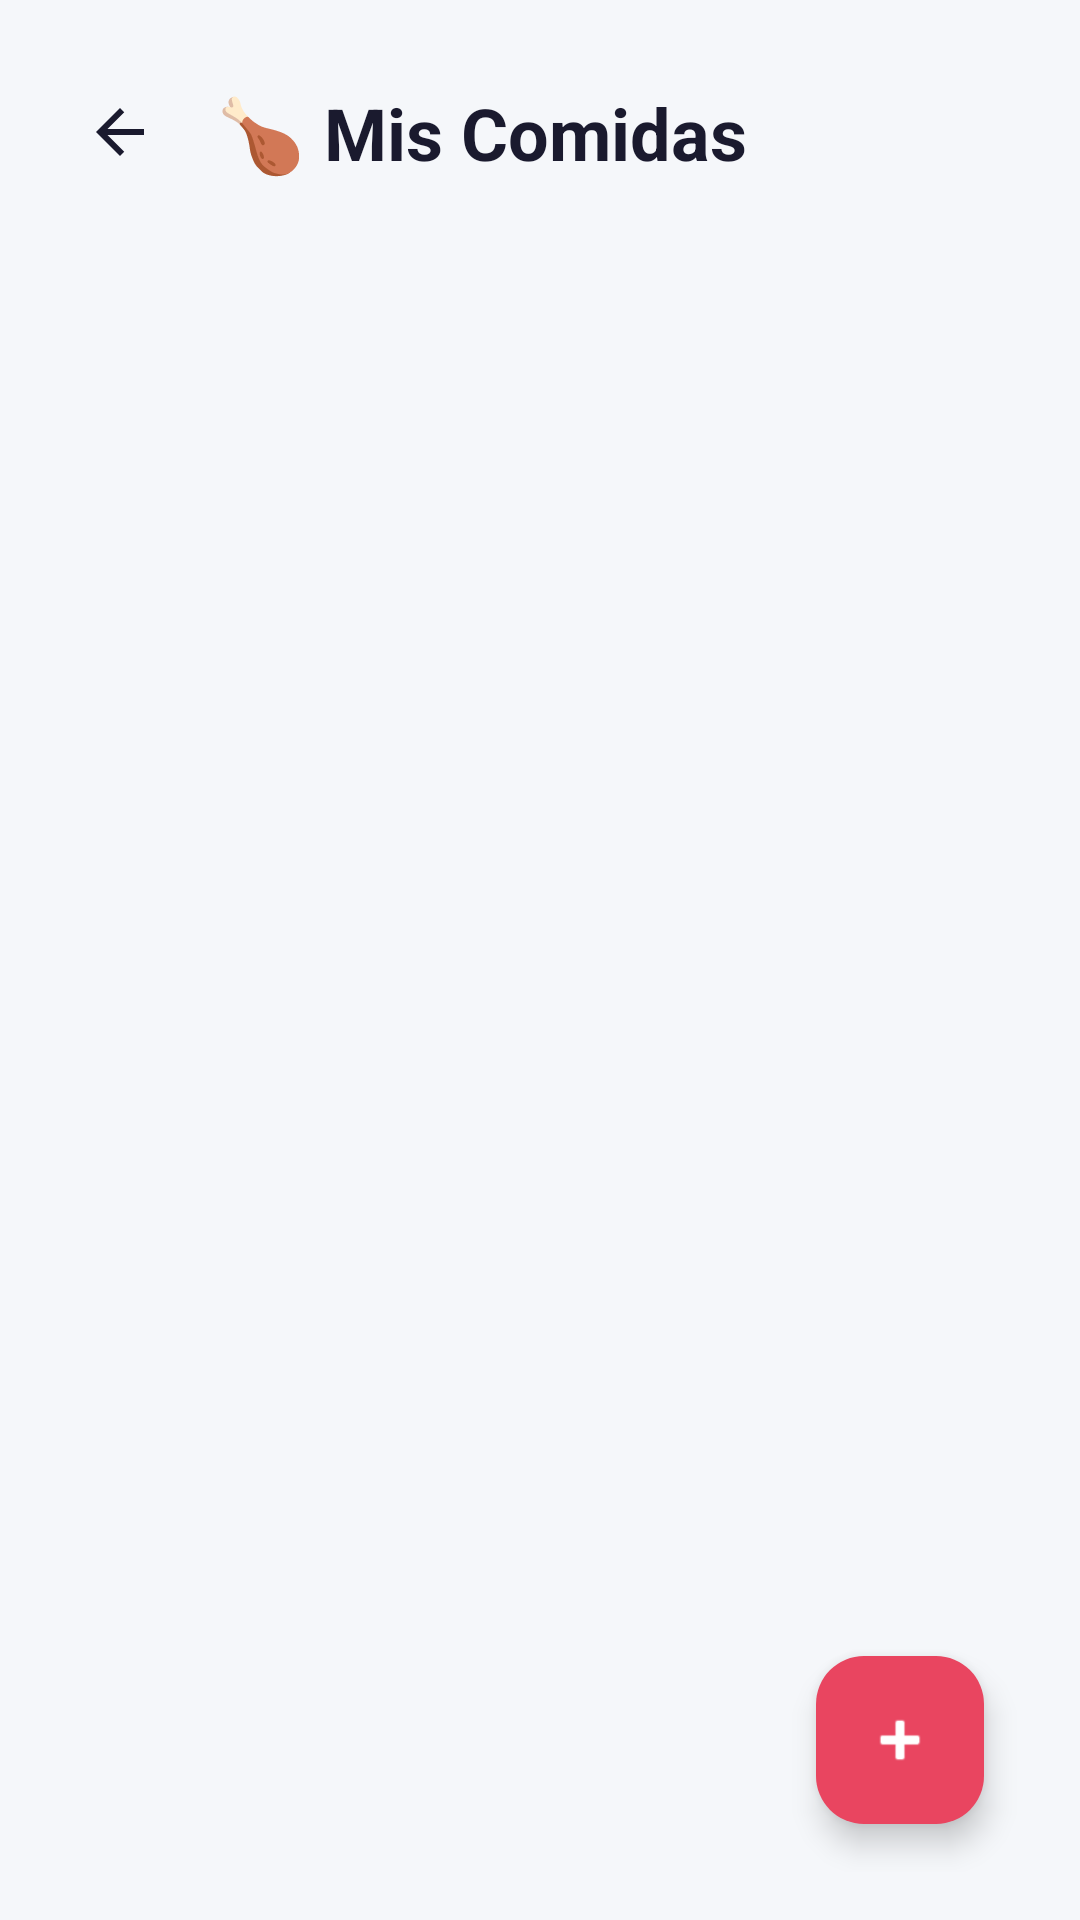

Icons on this 1080px×1920px Android screen, each with the point to tap as (x,y):
add: (900,1740)
flecha atras: (120,132)
